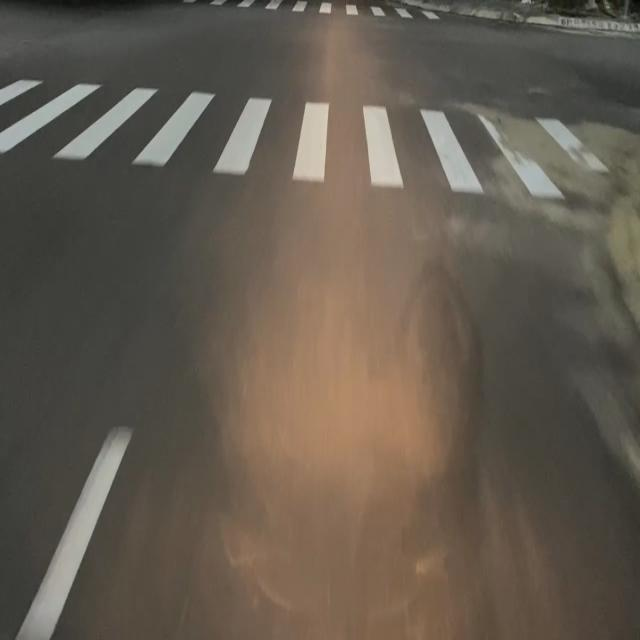walk-crossing: (4, 68, 608, 195)
